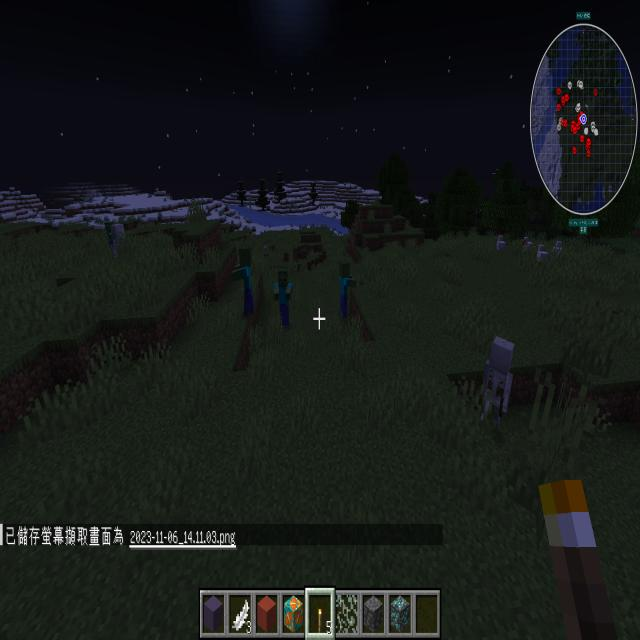Skeleton: (464, 333, 522, 438), (336, 257, 360, 327), (110, 217, 128, 270)
Zombie: (226, 240, 262, 326), (268, 263, 298, 337)
chicken: (521, 231, 535, 264), (495, 230, 508, 260)
